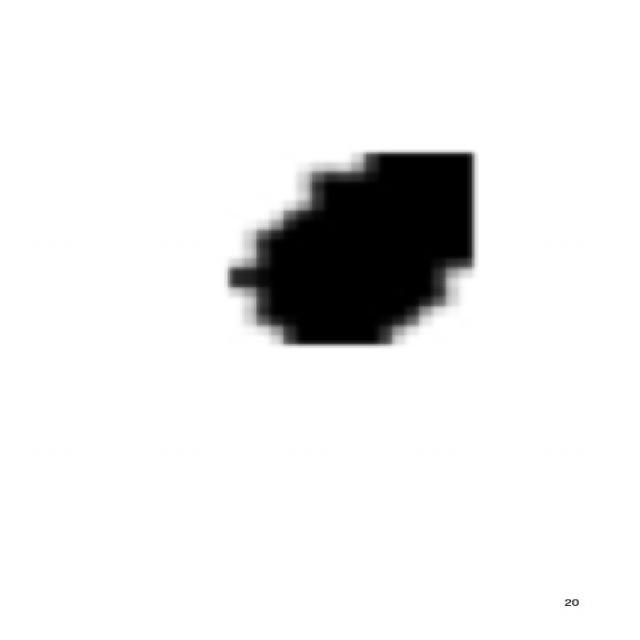0 -zero-: (213, 139, 487, 352)
